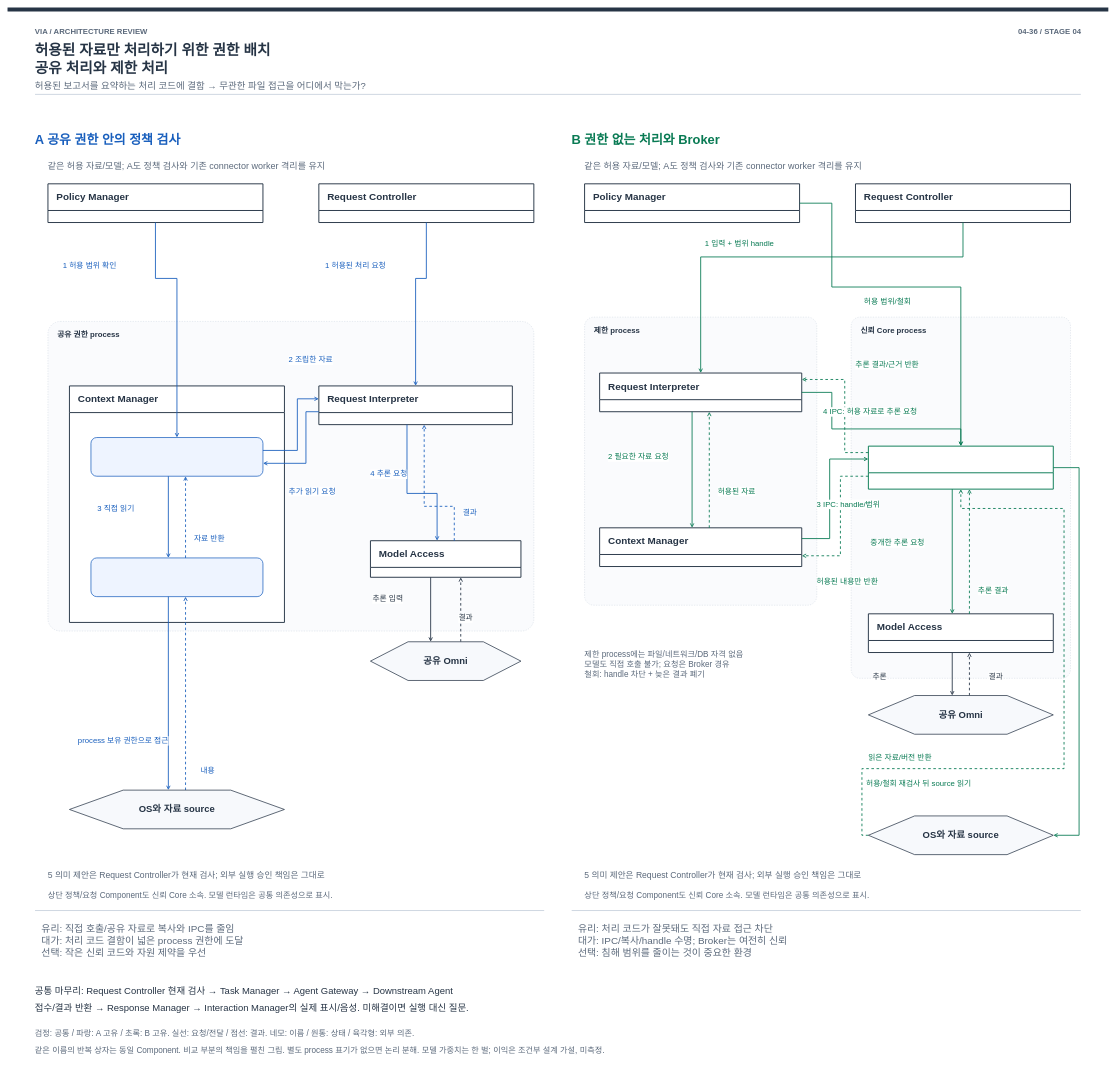
This 1115x1065 diagram has some shape labels left out. The box of each missing label's shape, as (x1, y1, x2, y2) in pixels:
Data Access Broker: (868, 445, 1054, 489)
자료 접근 Adapter: (90, 557, 263, 597)
자료 조립기: (90, 437, 263, 476)
